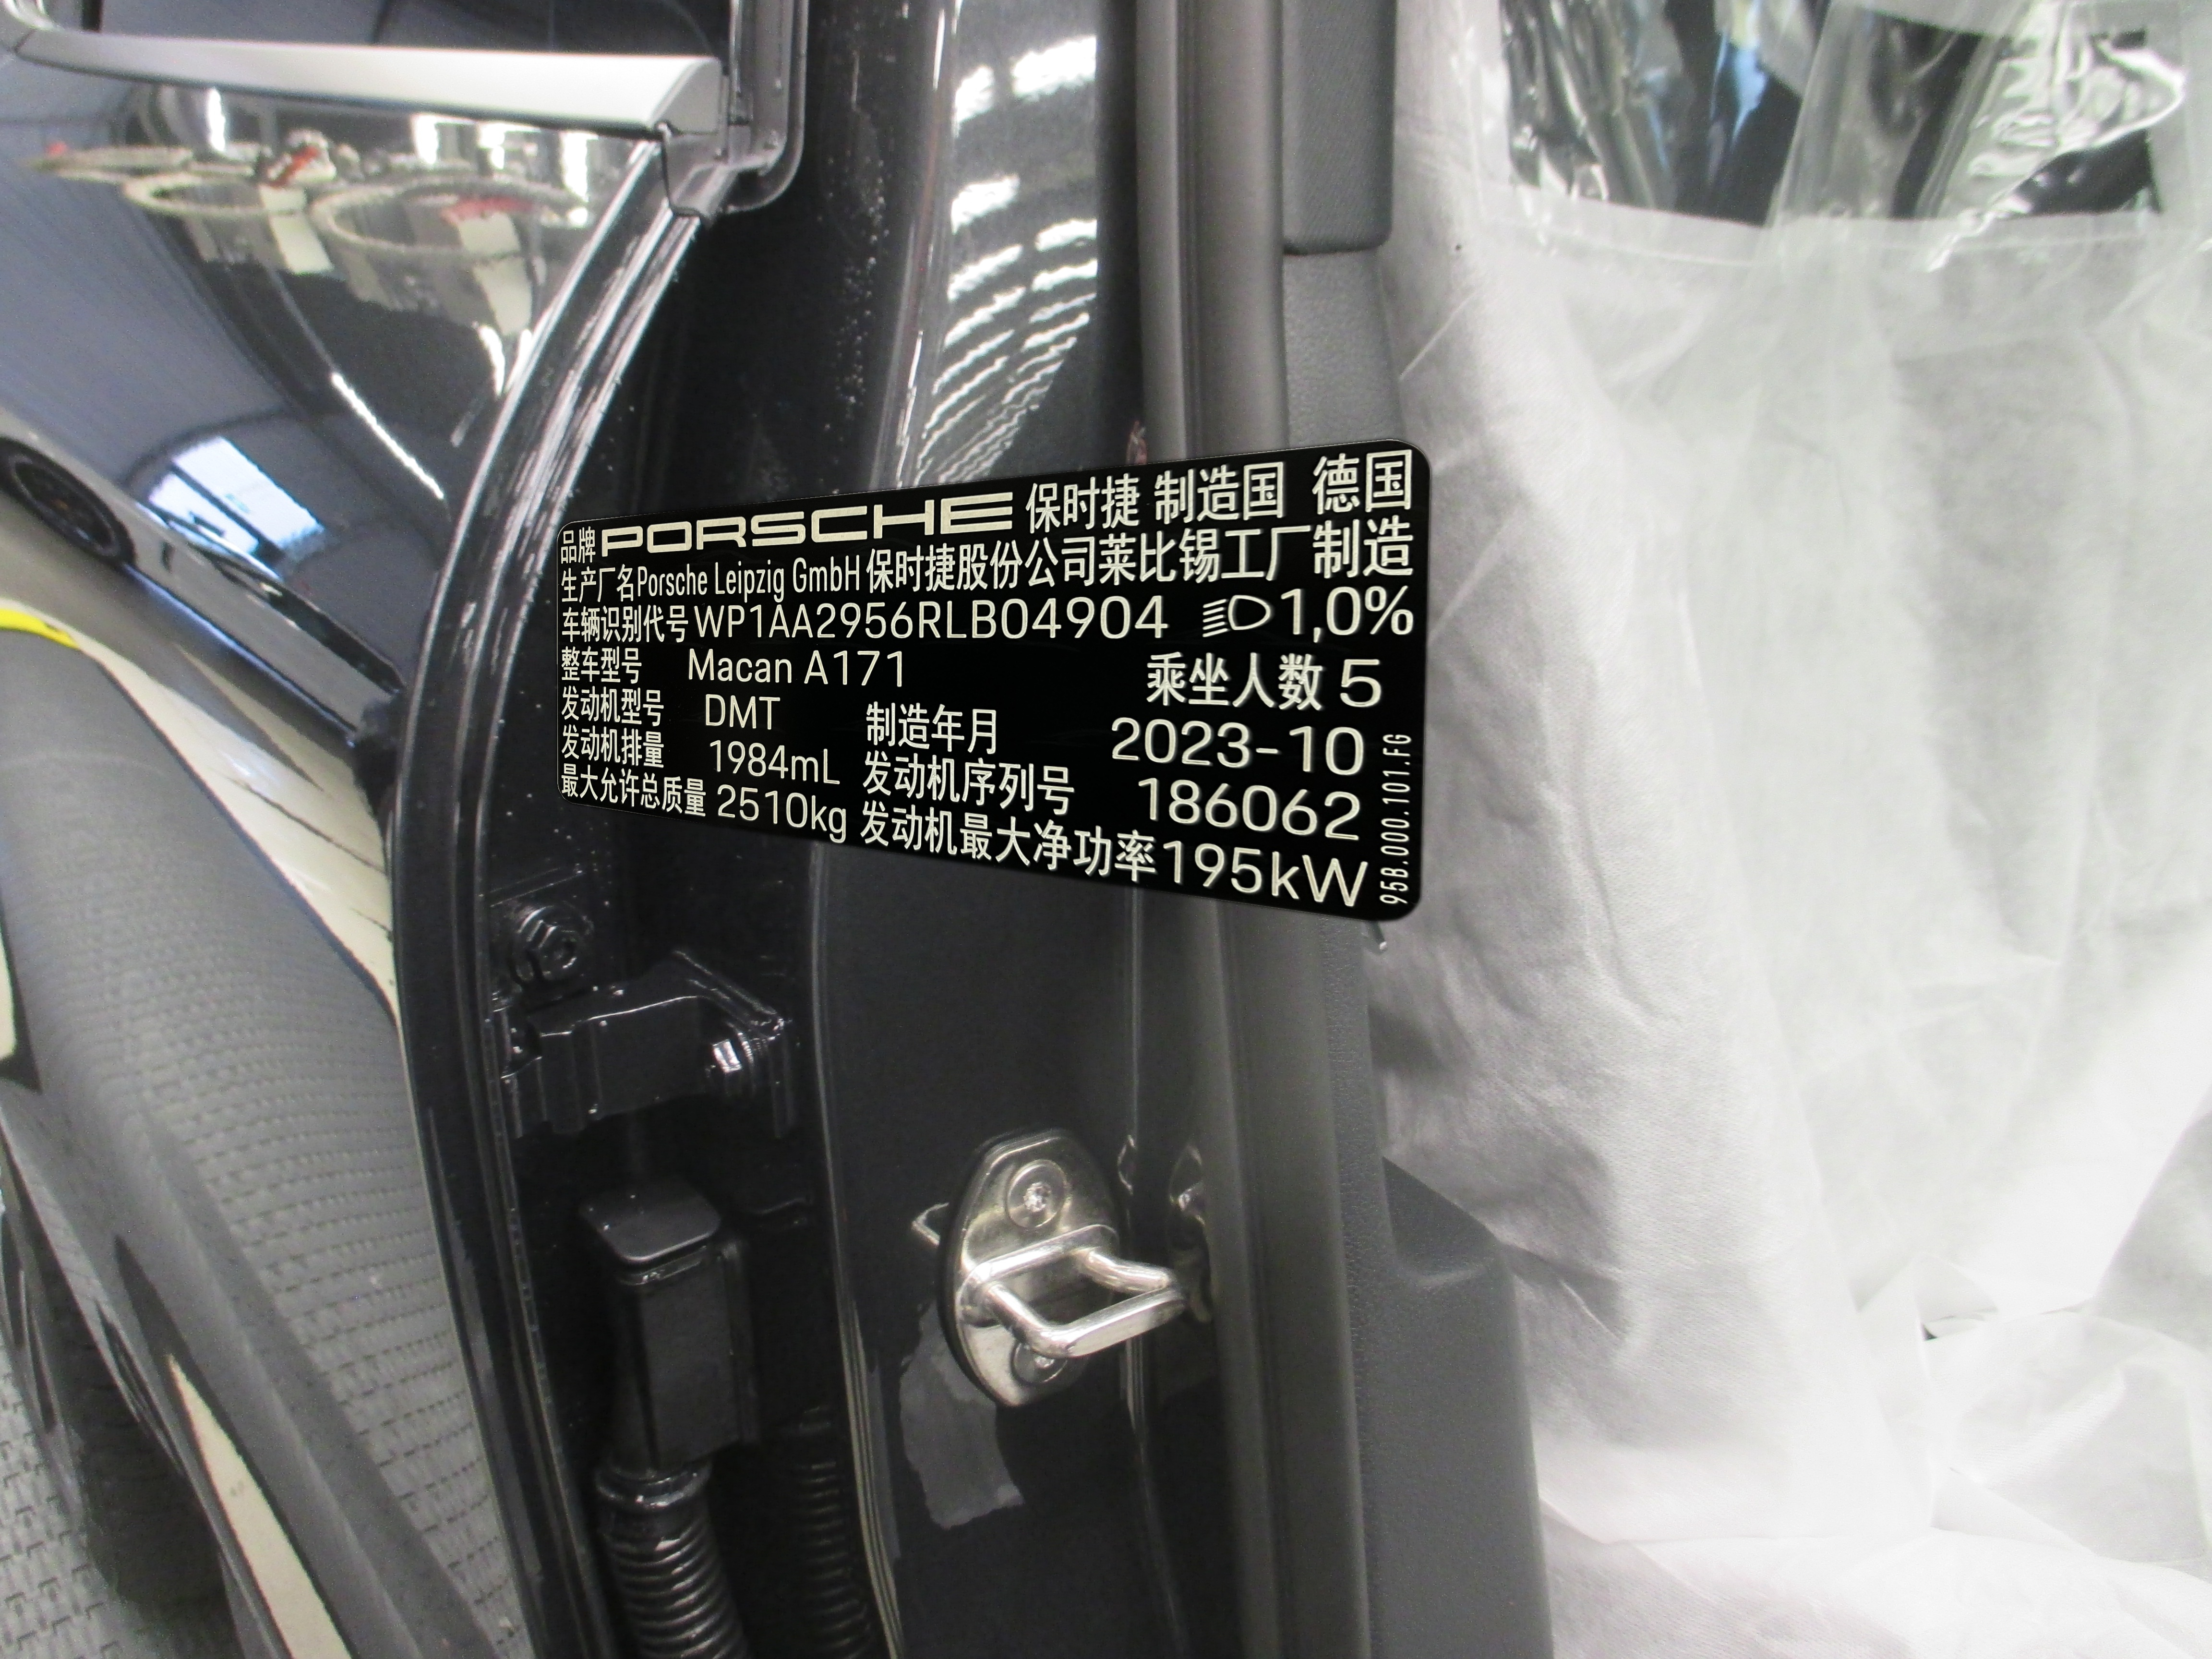Typlabel-China: (557, 439, 1430, 922)
